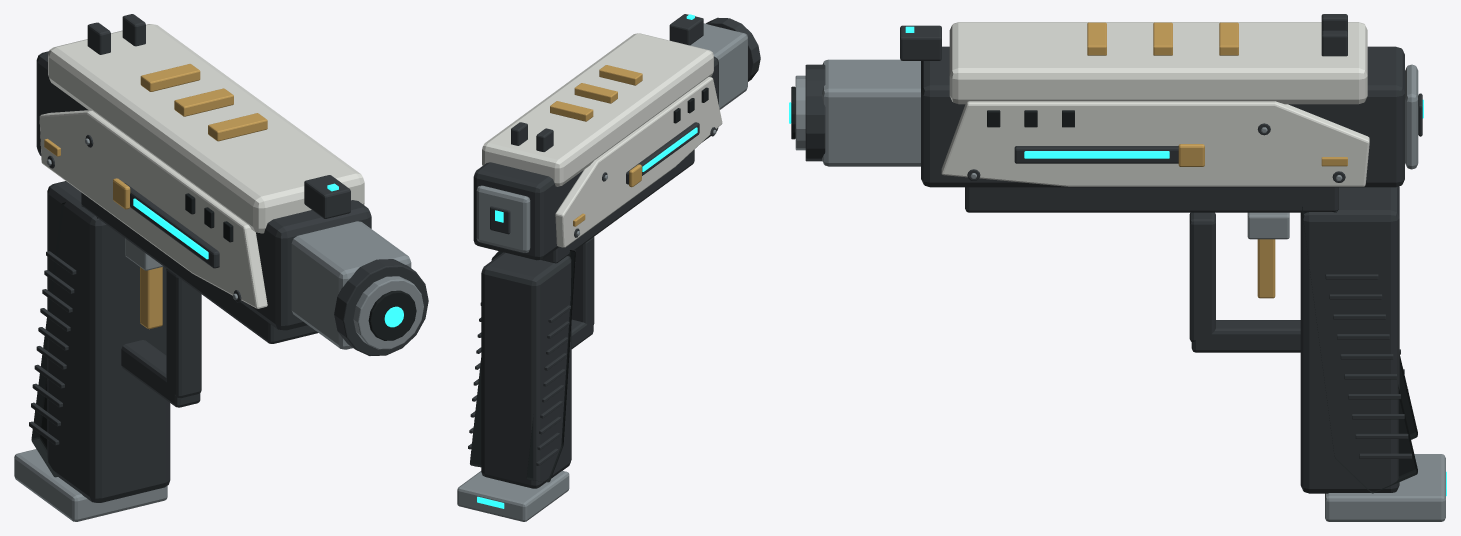
File: aethercoil-pistol.glb
3 renders of one model, left to right at view 1: azimuth 30°, elevation 25°; view 2: azimuth 150°, elevation 25°; view 3: azimuth 270°, elevation 25°, orthographic. The views are drawn at different scales.
Parts seen in each view (by area): view 1: Graphite structural alloy, Warm white composite, Machined titanium, Solar gold hardware, Rubber seals, Cyan telemetry; view 2: Graphite structural alloy, Warm white composite, Machined titanium, Rubber seals, Solar gold hardware, Cyan telemetry; view 3: Graphite structural alloy, Warm white composite, Machined titanium, Solar gold hardware, Rubber seals, Cyan telemetry.
Boxes of the visible parts, box(x1,y1,x2,y2) form: Graphite structural alloy: box(29, 14, 428, 502); Warm white composite: box(39, 24, 364, 308); Machined titanium: box(14, 138, 423, 521); Solar gold hardware: box(44, 64, 267, 329); Rubber seals: box(31, 193, 416, 477); Cyan telemetry: box(133, 183, 403, 327); Graphite structural alloy: box(468, 14, 760, 488); Warm white composite: box(482, 33, 722, 247); Machined titanium: box(457, 23, 747, 521); Rubber seals: box(470, 87, 708, 482); Solar gold hardware: box(550, 65, 642, 226); Cyan telemetry: box(477, 14, 697, 508); Graphite structural alloy: box(805, 14, 1422, 493); Warm white composite: box(941, 22, 1369, 186); Machined titanium: box(795, 59, 1445, 521); Solar gold hardware: box(1087, 22, 1347, 298); Rubber seals: box(791, 86, 1417, 493); Cyan telemetry: box(789, 26, 1446, 496).
Bounding box in the file's own units: 0.073 × 0.239 × 0.299.
